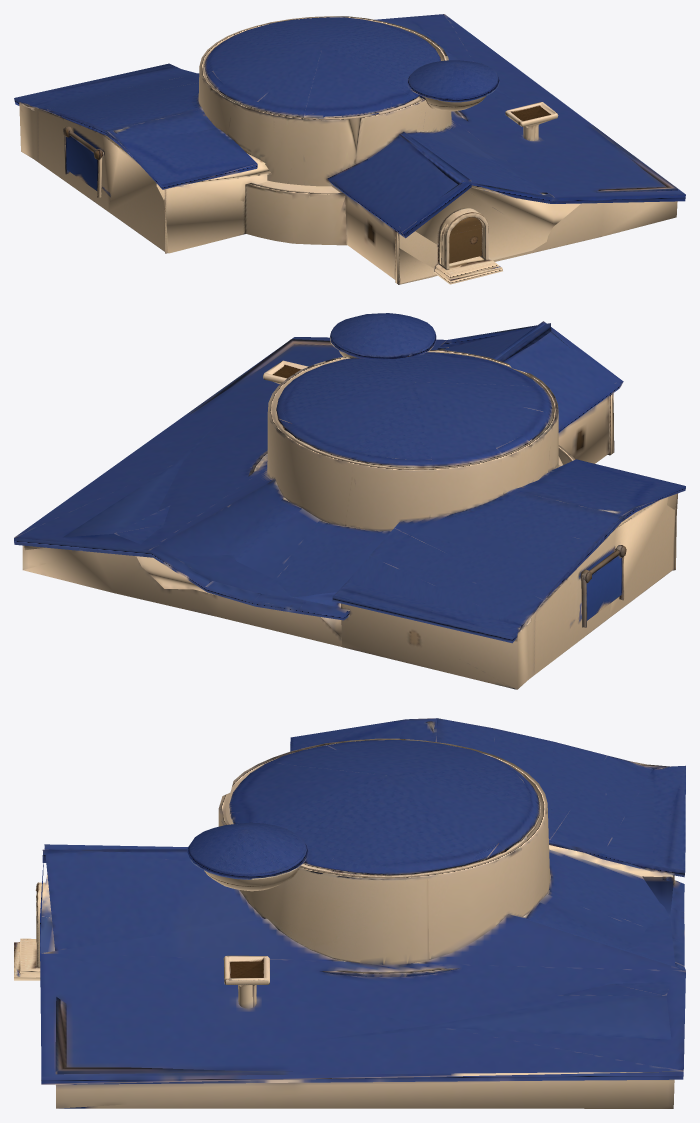
The model's file is meshy-c-e1.glb.
3 renders of one model, top to bottom at view 1: azimuth 30°, elevation 25°; view 2: azimuth 150°, elevation 25°; view 3: azimuth 270°, elevation 25°, orthographic. The views are drawn at different scales.
Size of the model in its own units: 1 by 0.3056 by 1.
1 material, 1 textured.
